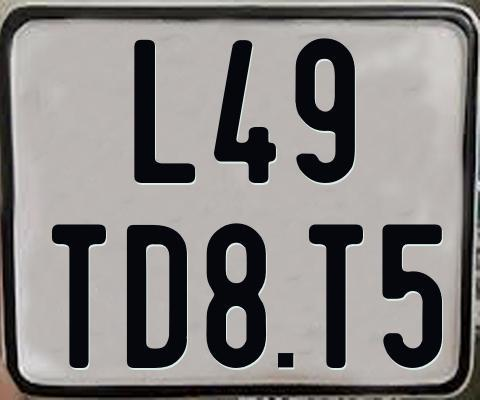4: (213, 38, 276, 185)
5: (381, 222, 442, 368)
8: (203, 220, 269, 371)
9: (295, 37, 358, 182)
D: (127, 225, 191, 368)
L: (133, 39, 195, 185)
T: (307, 222, 367, 372), (51, 223, 109, 373)
